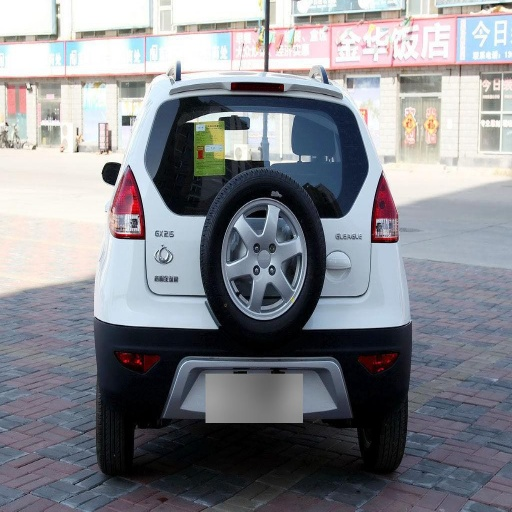back_bumper: (95, 237, 232, 418), (327, 219, 410, 372)
trunk: (112, 144, 231, 295)
